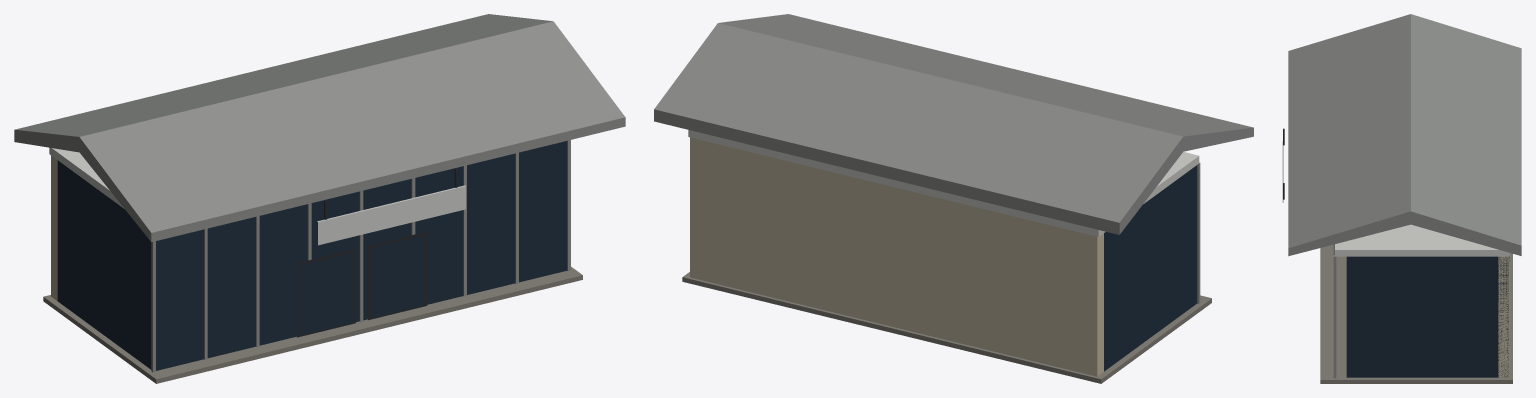
The model's file is building_metro-station.glb.
The picture shows the model from 3 angles, left to right: view 1: azimuth 30°, elevation 25°; view 2: azimuth 150°, elevation 25°; view 3: azimuth 270°, elevation 25°; orthographic projection. The views are drawn at different scales.
Parts seen in each view (by area): view 1: body; view 2: body; view 3: body.
Boxes of the visible parts, box(x1,y1,x2,y2) form: body: box(14, 14, 625, 383); body: box(654, 14, 1253, 383); body: box(1282, 14, 1521, 383).
Size of the model in its own units: 16 by 6.9 by 8.21.
